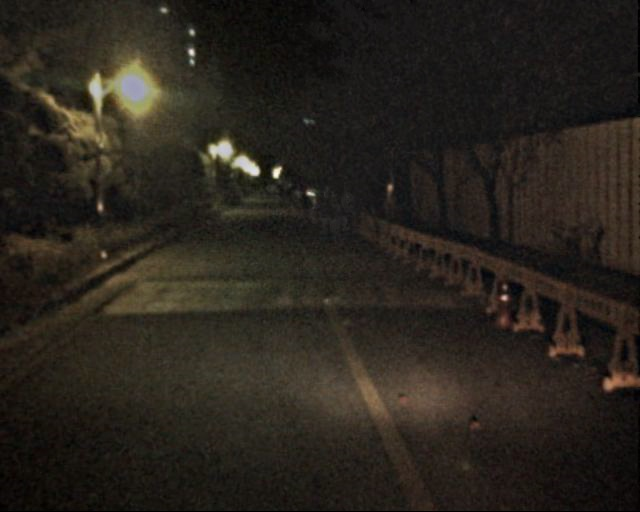person: (338, 187, 359, 237), (325, 192, 344, 238), (316, 191, 333, 233), (295, 191, 310, 227)
